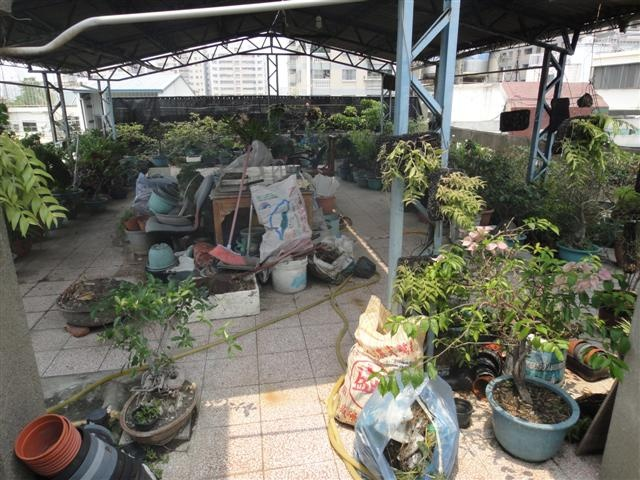bowl: (147, 243, 177, 270), (149, 189, 176, 215)
bucket: (271, 256, 308, 293)
plastic_bag: (364, 375, 453, 480), (349, 312, 423, 417), (249, 175, 312, 259)
styrofoam: (179, 274, 261, 325), (184, 153, 201, 163)
